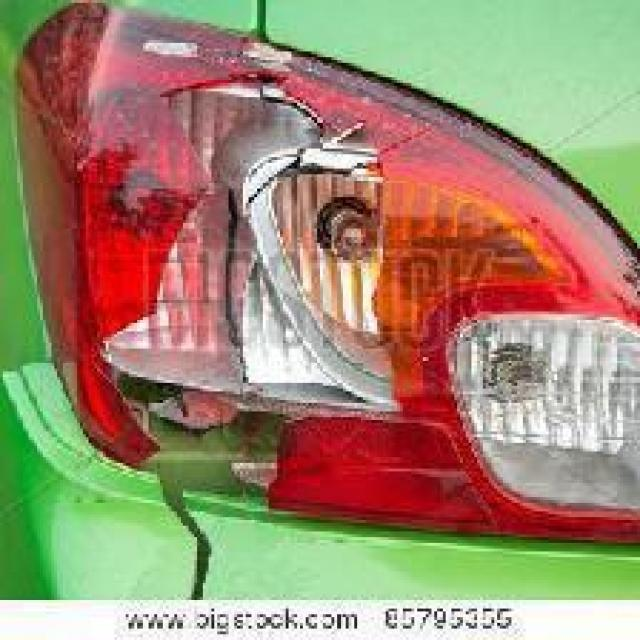damaged: (91, 69, 392, 600)
